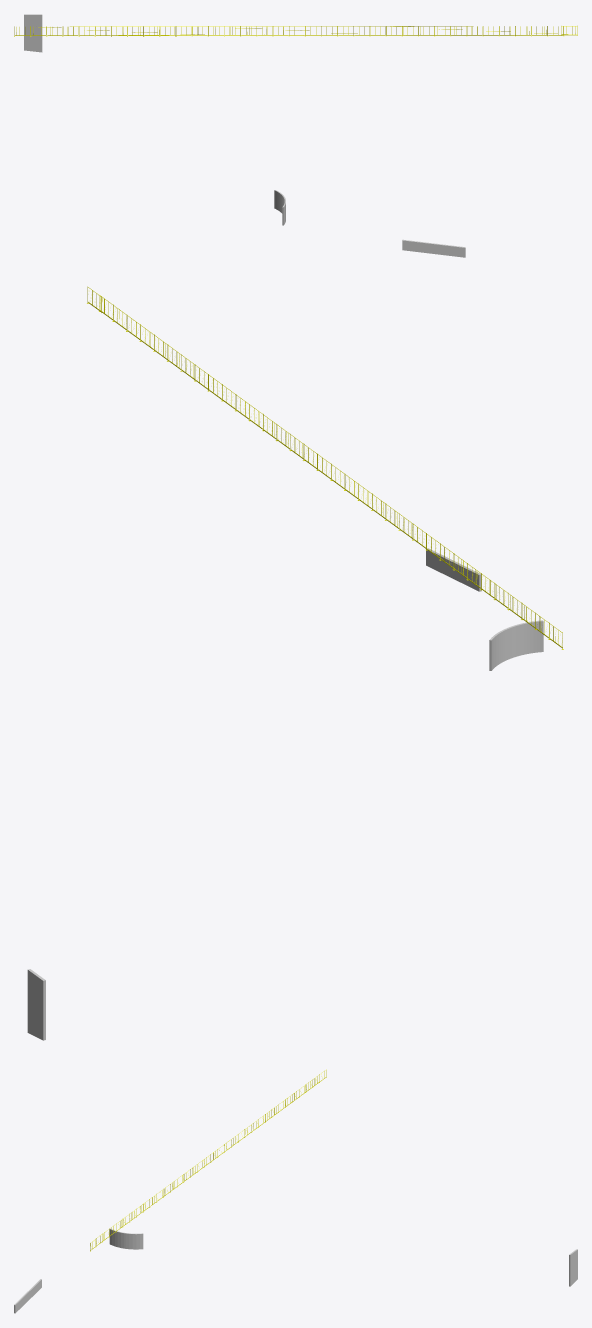
3 views of the same model, one above another, from view 1: azimuth 30°, elevation 25°; view 2: azimuth 150°, elevation 25°; view 3: azimuth 270°, elevation 25° (orthographic). The views are drawn at different scales.
Visible parts, largest first — view 1: 3iGLqpLGX5OQTwlrSQsjBj, 2eYYh$isT3$RKdZ91IYHFq; view 2: 3zy8ZyJhj5ouDbG5dzWoLo, 2eYYh$isT3$RKdZ91IYHFq, 3iGLqpLGX5OQTwlrSQsjBj; view 3: 3zy8ZyJhj5ouDbG5dzWoLo.
Boxes of the visible parts, left/top/right/bottom form: 3iGLqpLGX5OQTwlrSQsjBj: left=402, top=239, right=465, bottom=257; 2eYYh$isT3$RKdZ91IYHFq: left=24, top=14, right=42, bottom=52; 3zy8ZyJhj5ouDbG5dzWoLo: left=489, top=620, right=543, bottom=670; 2eYYh$isT3$RKdZ91IYHFq: left=27, top=969, right=45, bottom=1040; 3iGLqpLGX5OQTwlrSQsjBj: left=426, top=548, right=481, bottom=591; 3zy8ZyJhj5ouDbG5dzWoLo: left=109, top=1228, right=143, bottom=1249.
Size of the model in its own units: 54.01 by 21.17 by 73.99.
